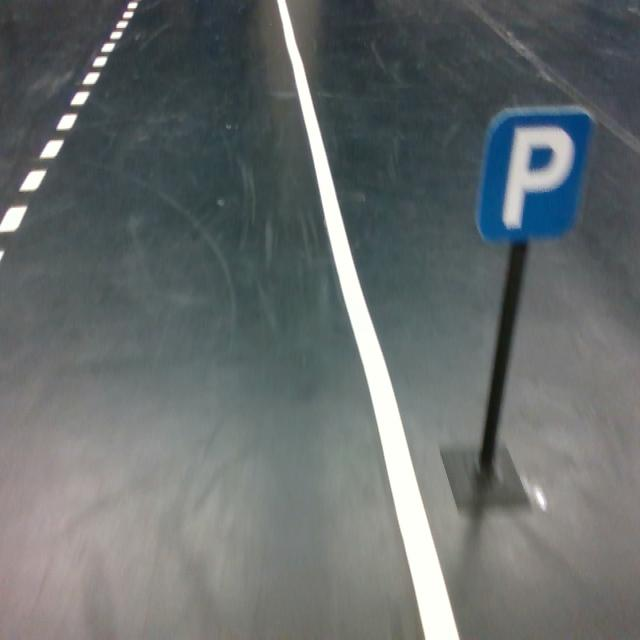parking-sign: (474, 104, 593, 244)
